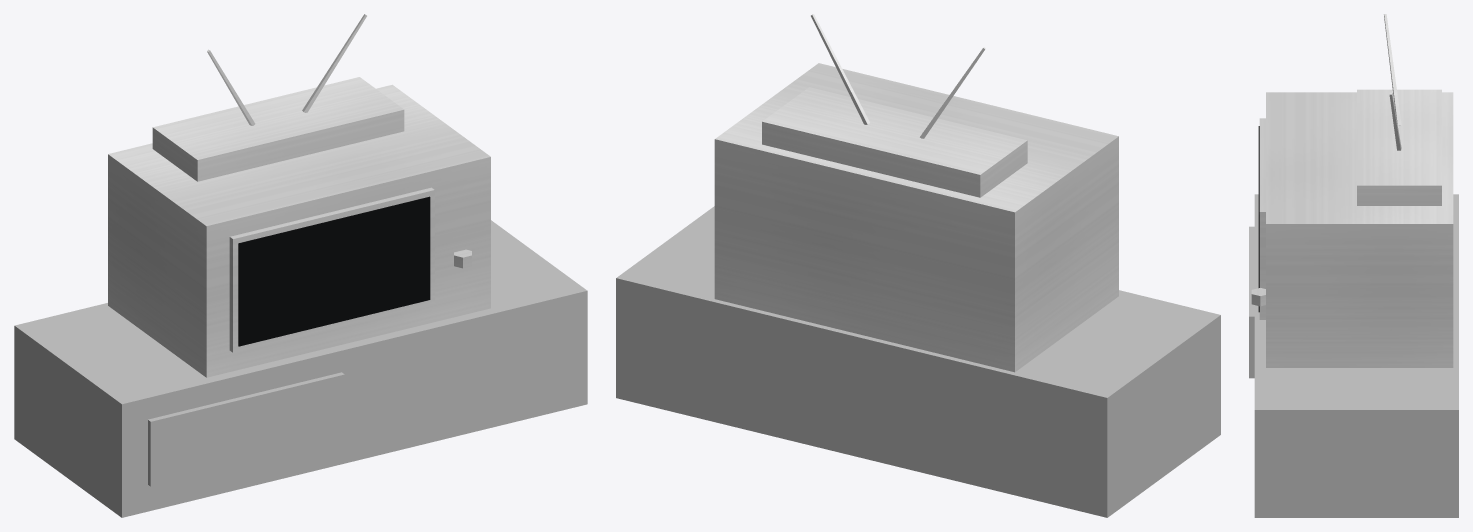
3 views of the same model, side by side, from view 1: azimuth 30°, elevation 25°; view 2: azimuth 150°, elevation 25°; view 3: azimuth 270°, elevation 25° (orthographic). The views are drawn at different scales.
Visible parts, largest first — view 1: tv_tube; view 2: tv_tube; view 3: tv_tube.
Boxes of the visible parts, box(x1,y1,x2,y2) form: tv_tube: box(14, 14, 587, 517); tv_tube: box(616, 14, 1220, 517); tv_tube: box(1249, 14, 1458, 517).
Bounding box in the file's own units: 1.8 × 1.4 × 0.74.
